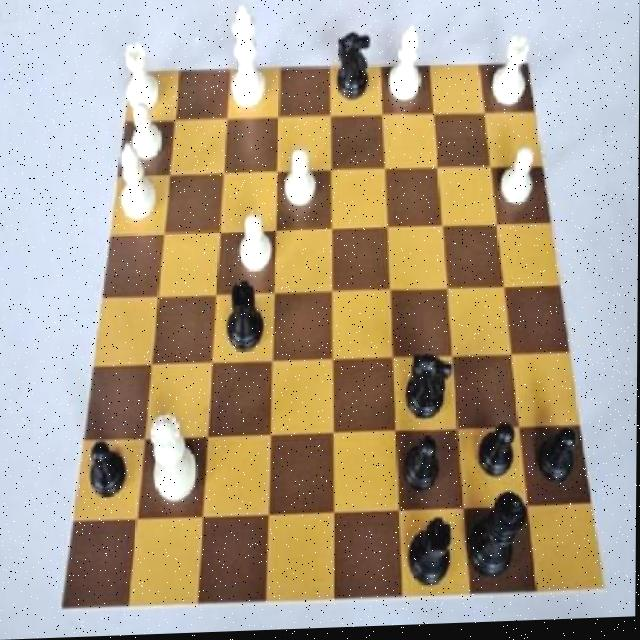black-bishop: (466, 491, 533, 595)
black-king: (399, 347, 458, 436), (332, 27, 374, 117)
black-knight: (471, 419, 519, 500), (83, 436, 133, 512), (399, 428, 448, 505), (537, 421, 582, 504)
black-queen: (403, 510, 460, 599), (216, 280, 272, 360)
black-rook: (108, 140, 162, 231), (385, 21, 429, 117)
white-bishop: (224, 0, 270, 115)
white-knight: (497, 144, 539, 220), (232, 212, 274, 288), (124, 98, 169, 168), (281, 144, 322, 220)
white-pawn: (147, 399, 202, 511)
white-queen: (119, 35, 165, 120), (486, 40, 535, 116)
